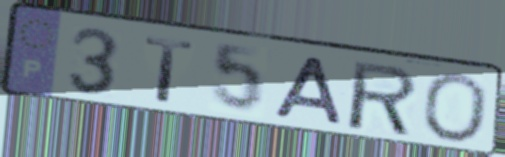3: (66, 26, 125, 99)
5: (211, 40, 269, 120)
A: (270, 54, 347, 128)
O: (419, 71, 491, 145)
R: (348, 58, 421, 139)
T: (142, 35, 197, 106)
